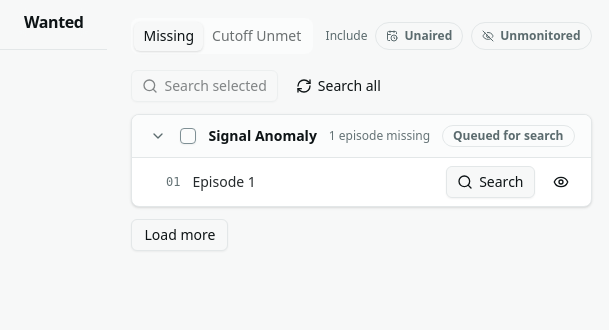
pages whole groups with the cursor the previous results page returned
Expected: the link "Signal Anomaly" is shown, [208,126,317,146]
Click the button "Load more".
click(180, 235)  # box [132,219,228,251]
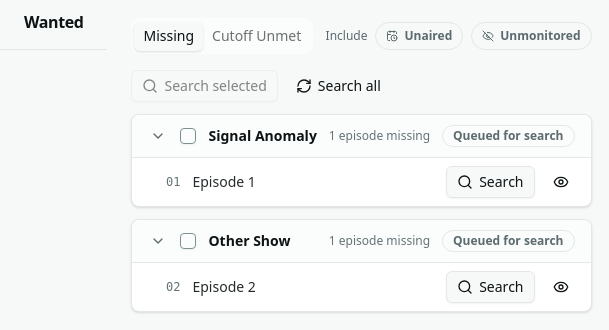
Expected: the link "Other Show" is shown, [208,231,290,250]
Expected: the button "Load more" is gone
